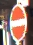No entry: (6, 6, 28, 40)
